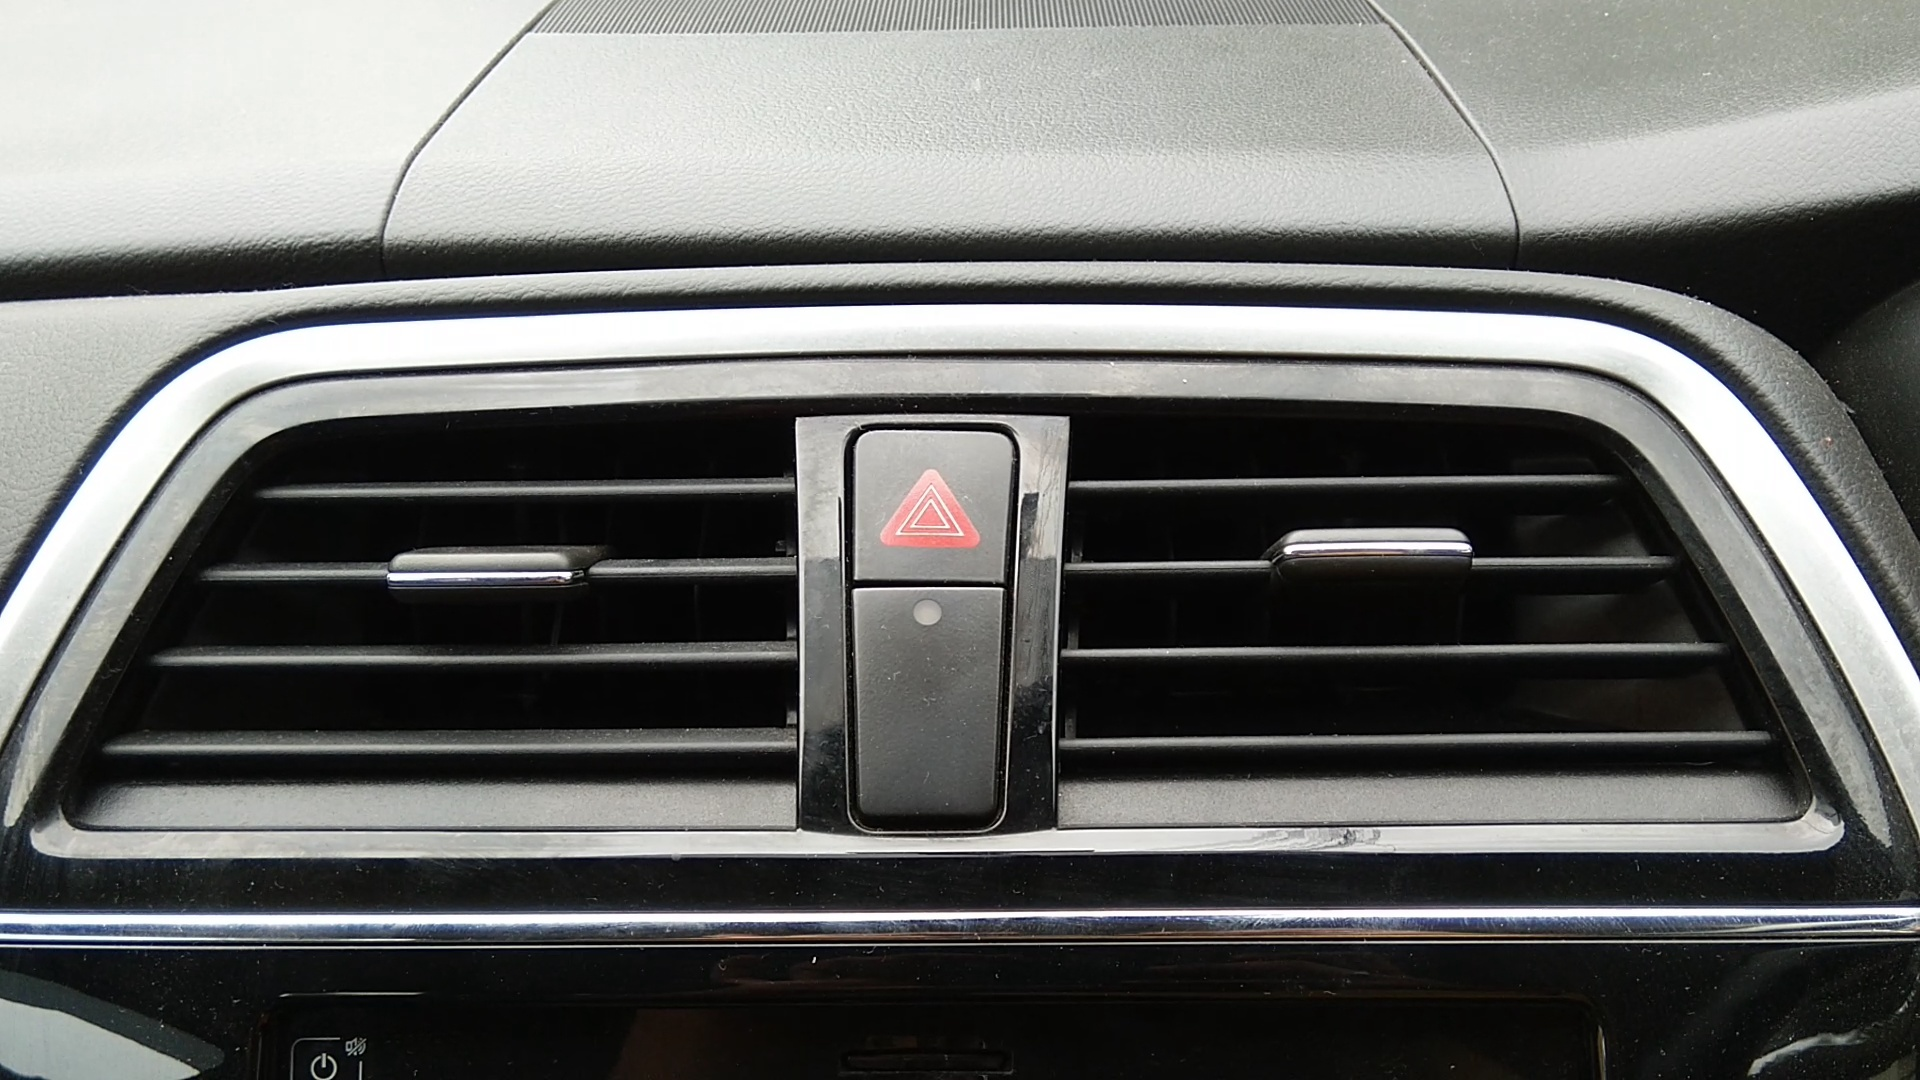parking_button: (829, 407, 1039, 615)
